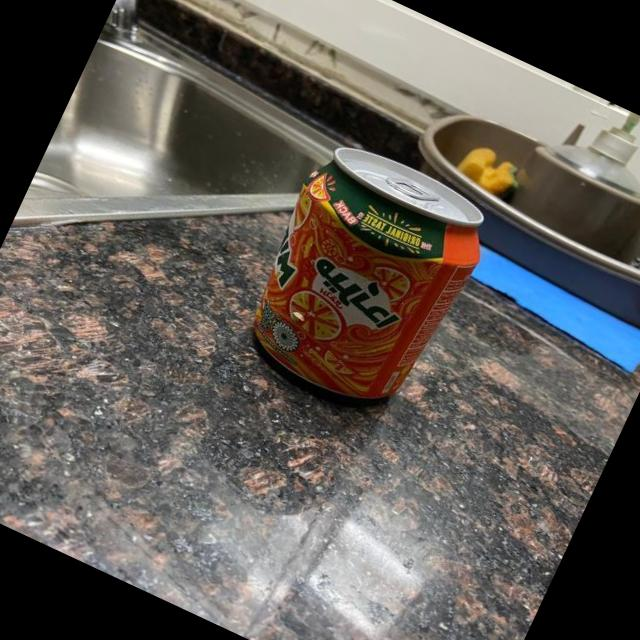Kaleng: (225, 128, 505, 433)
